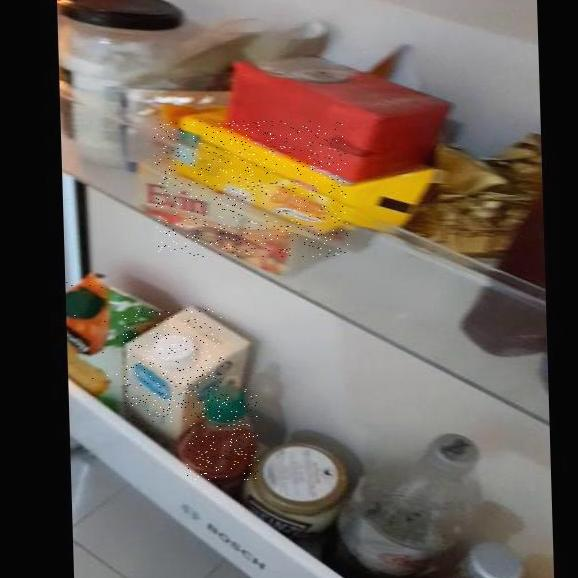butter: (154, 121, 348, 257)
juice: (65, 277, 128, 401)
milk: (122, 309, 226, 423)
sauce: (185, 389, 259, 480)
